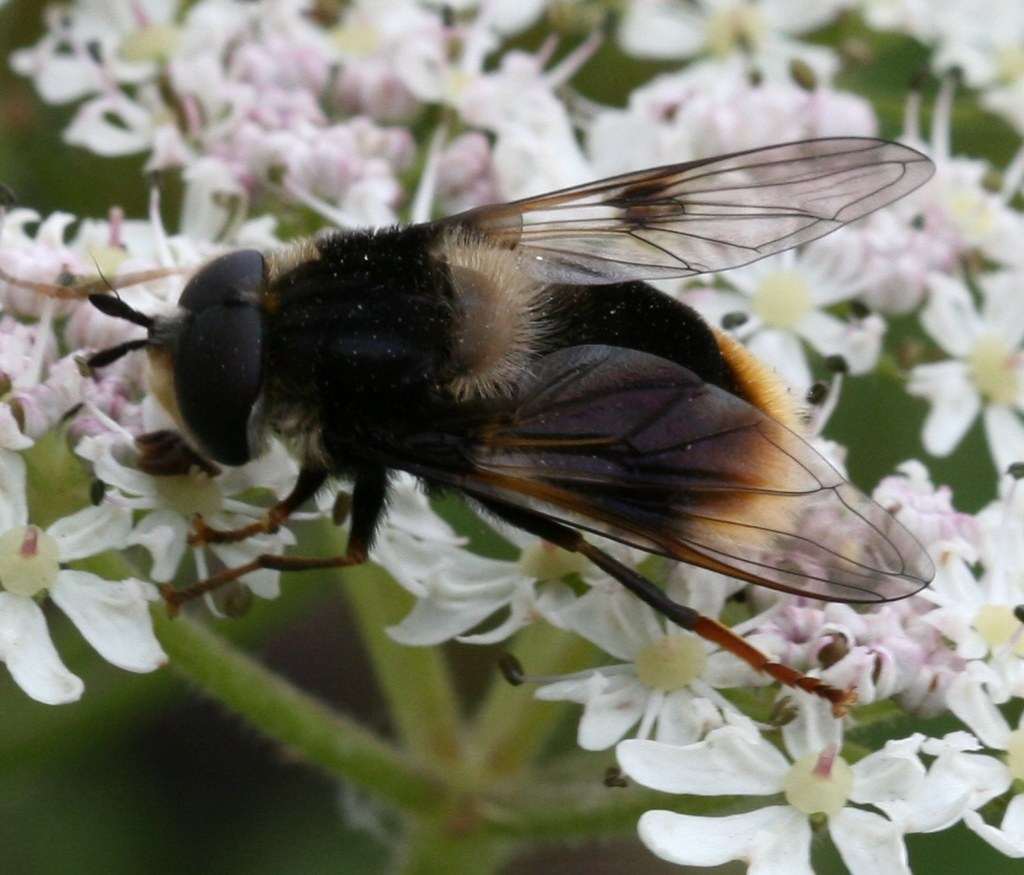bee: (90, 124, 935, 700)
